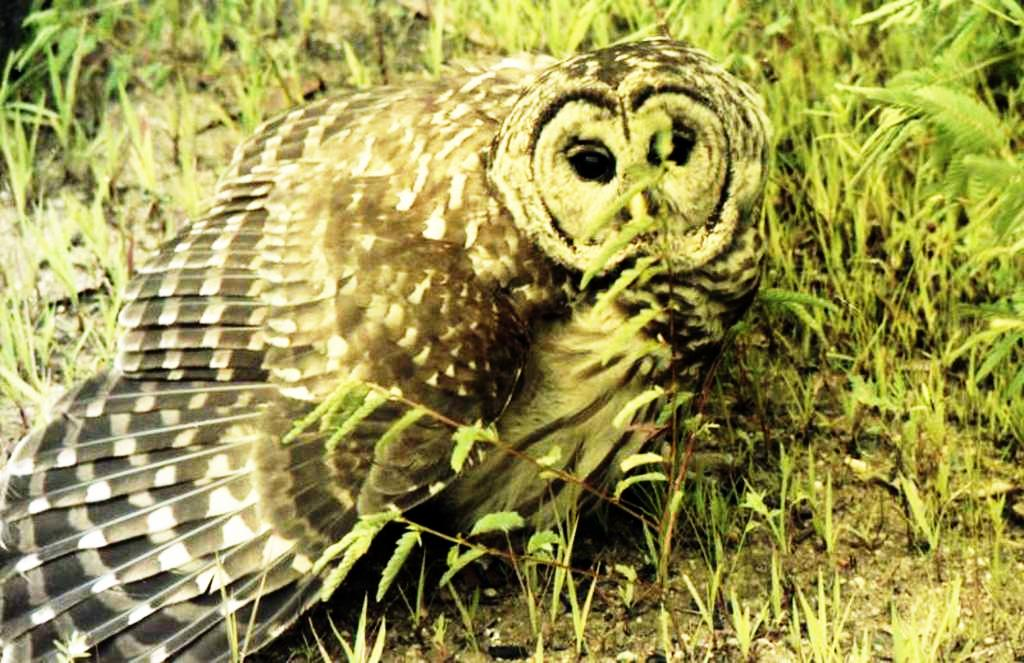Owl: (0, 32, 778, 662)
